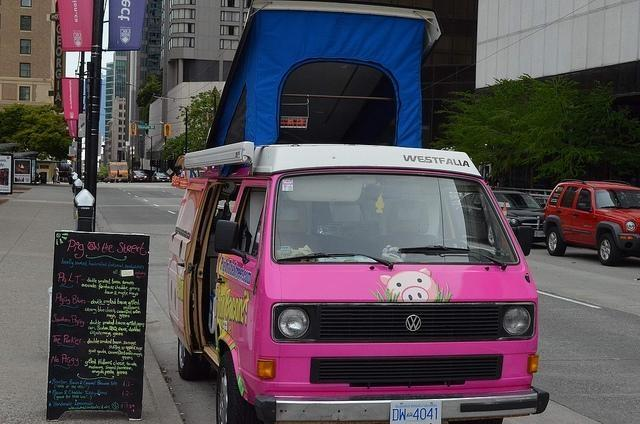car: (542, 181, 640, 265), (458, 190, 544, 246), (151, 171, 170, 182), (132, 171, 147, 182)
truck: (167, 141, 551, 424), (109, 161, 129, 184)
